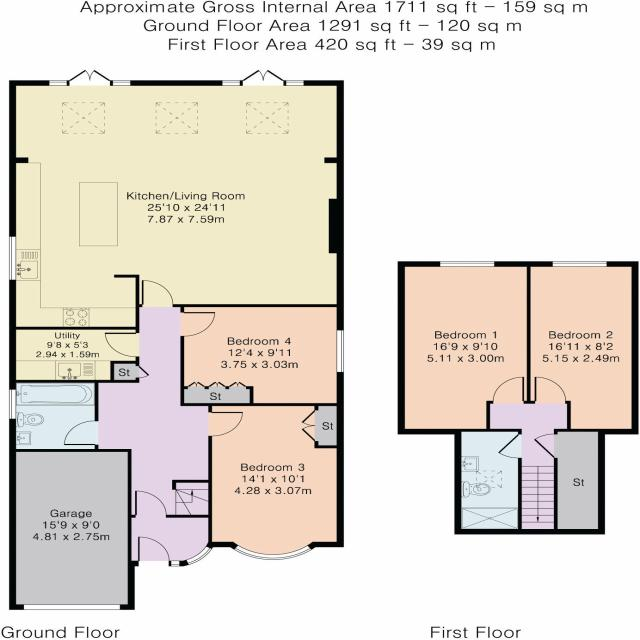DOOR: (136, 534, 171, 567), (208, 409, 246, 439), (61, 417, 99, 447), (180, 310, 219, 338), (133, 488, 169, 518), (490, 375, 526, 404), (102, 331, 140, 358), (141, 278, 176, 307), (533, 376, 568, 404), (496, 430, 523, 460)
DOUBLE DOOR: (67, 66, 114, 87), (240, 69, 285, 86)
ROOM: (8, 66, 344, 331), (397, 261, 531, 435), (208, 402, 344, 560), (525, 261, 639, 435), (180, 304, 344, 406)
WINDOW: (232, 543, 314, 561), (23, 603, 120, 610), (7, 234, 20, 282), (334, 328, 347, 374), (185, 546, 213, 567), (551, 260, 609, 269), (439, 259, 495, 268), (8, 388, 18, 420), (47, 79, 68, 87), (111, 79, 131, 87), (286, 79, 305, 87), (221, 80, 240, 87), (171, 559, 180, 567)
